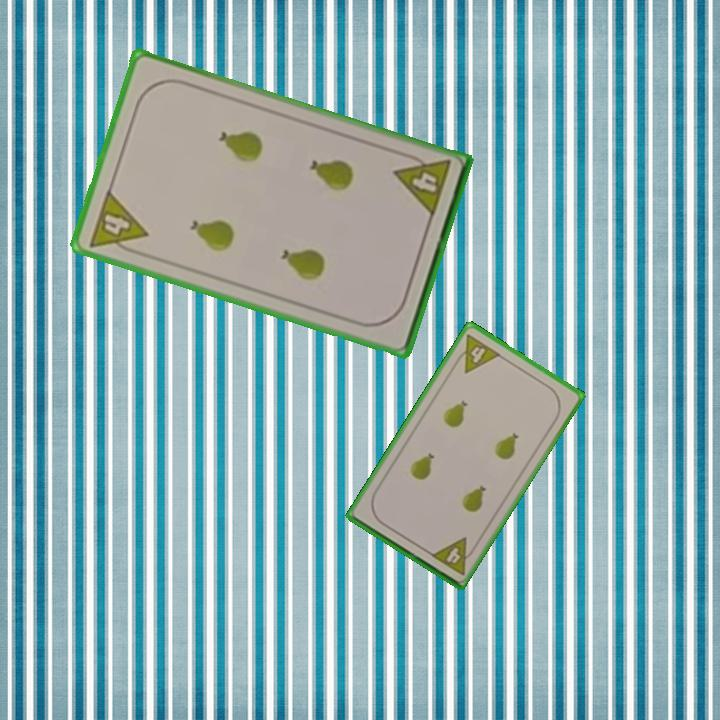4p: (85, 186, 151, 259), (390, 149, 454, 220), (450, 330, 503, 376), (427, 534, 480, 578)
